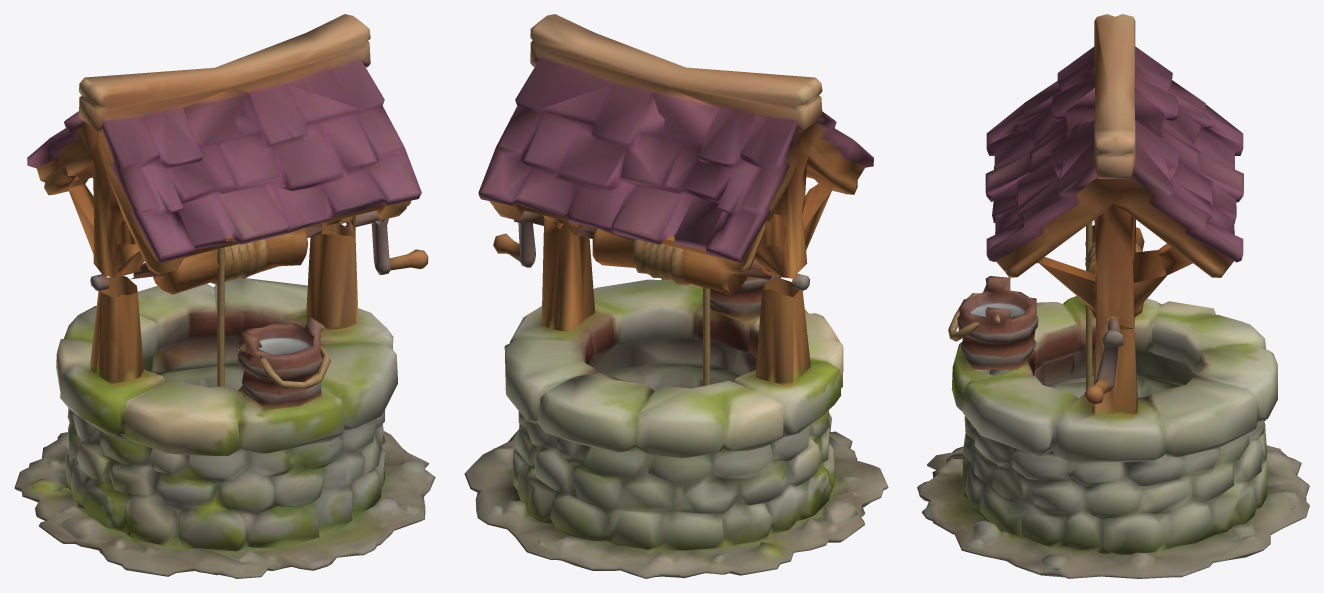
Rendered from stone_well.glb.
3 renders of one model, left to right at view 1: azimuth 30°, elevation 25°; view 2: azimuth 150°, elevation 25°; view 3: azimuth 270°, elevation 25°, orthographic. The views are drawn at different scales.
Parts seen in each view (by area): view 1: SkyRally_prop_forest_stone_well; view 2: SkyRally_prop_forest_stone_well; view 3: SkyRally_prop_forest_stone_well.
Boxes of the visible parts, x1,y1,x2,y2 form: SkyRally_prop_forest_stone_well: [14, 14, 435, 578]; SkyRally_prop_forest_stone_well: [464, 14, 888, 578]; SkyRally_prop_forest_stone_well: [917, 14, 1309, 578].
Bounding box in the file's own units: 11.27 × 13 × 10.94.
1 material, 1 textured.
